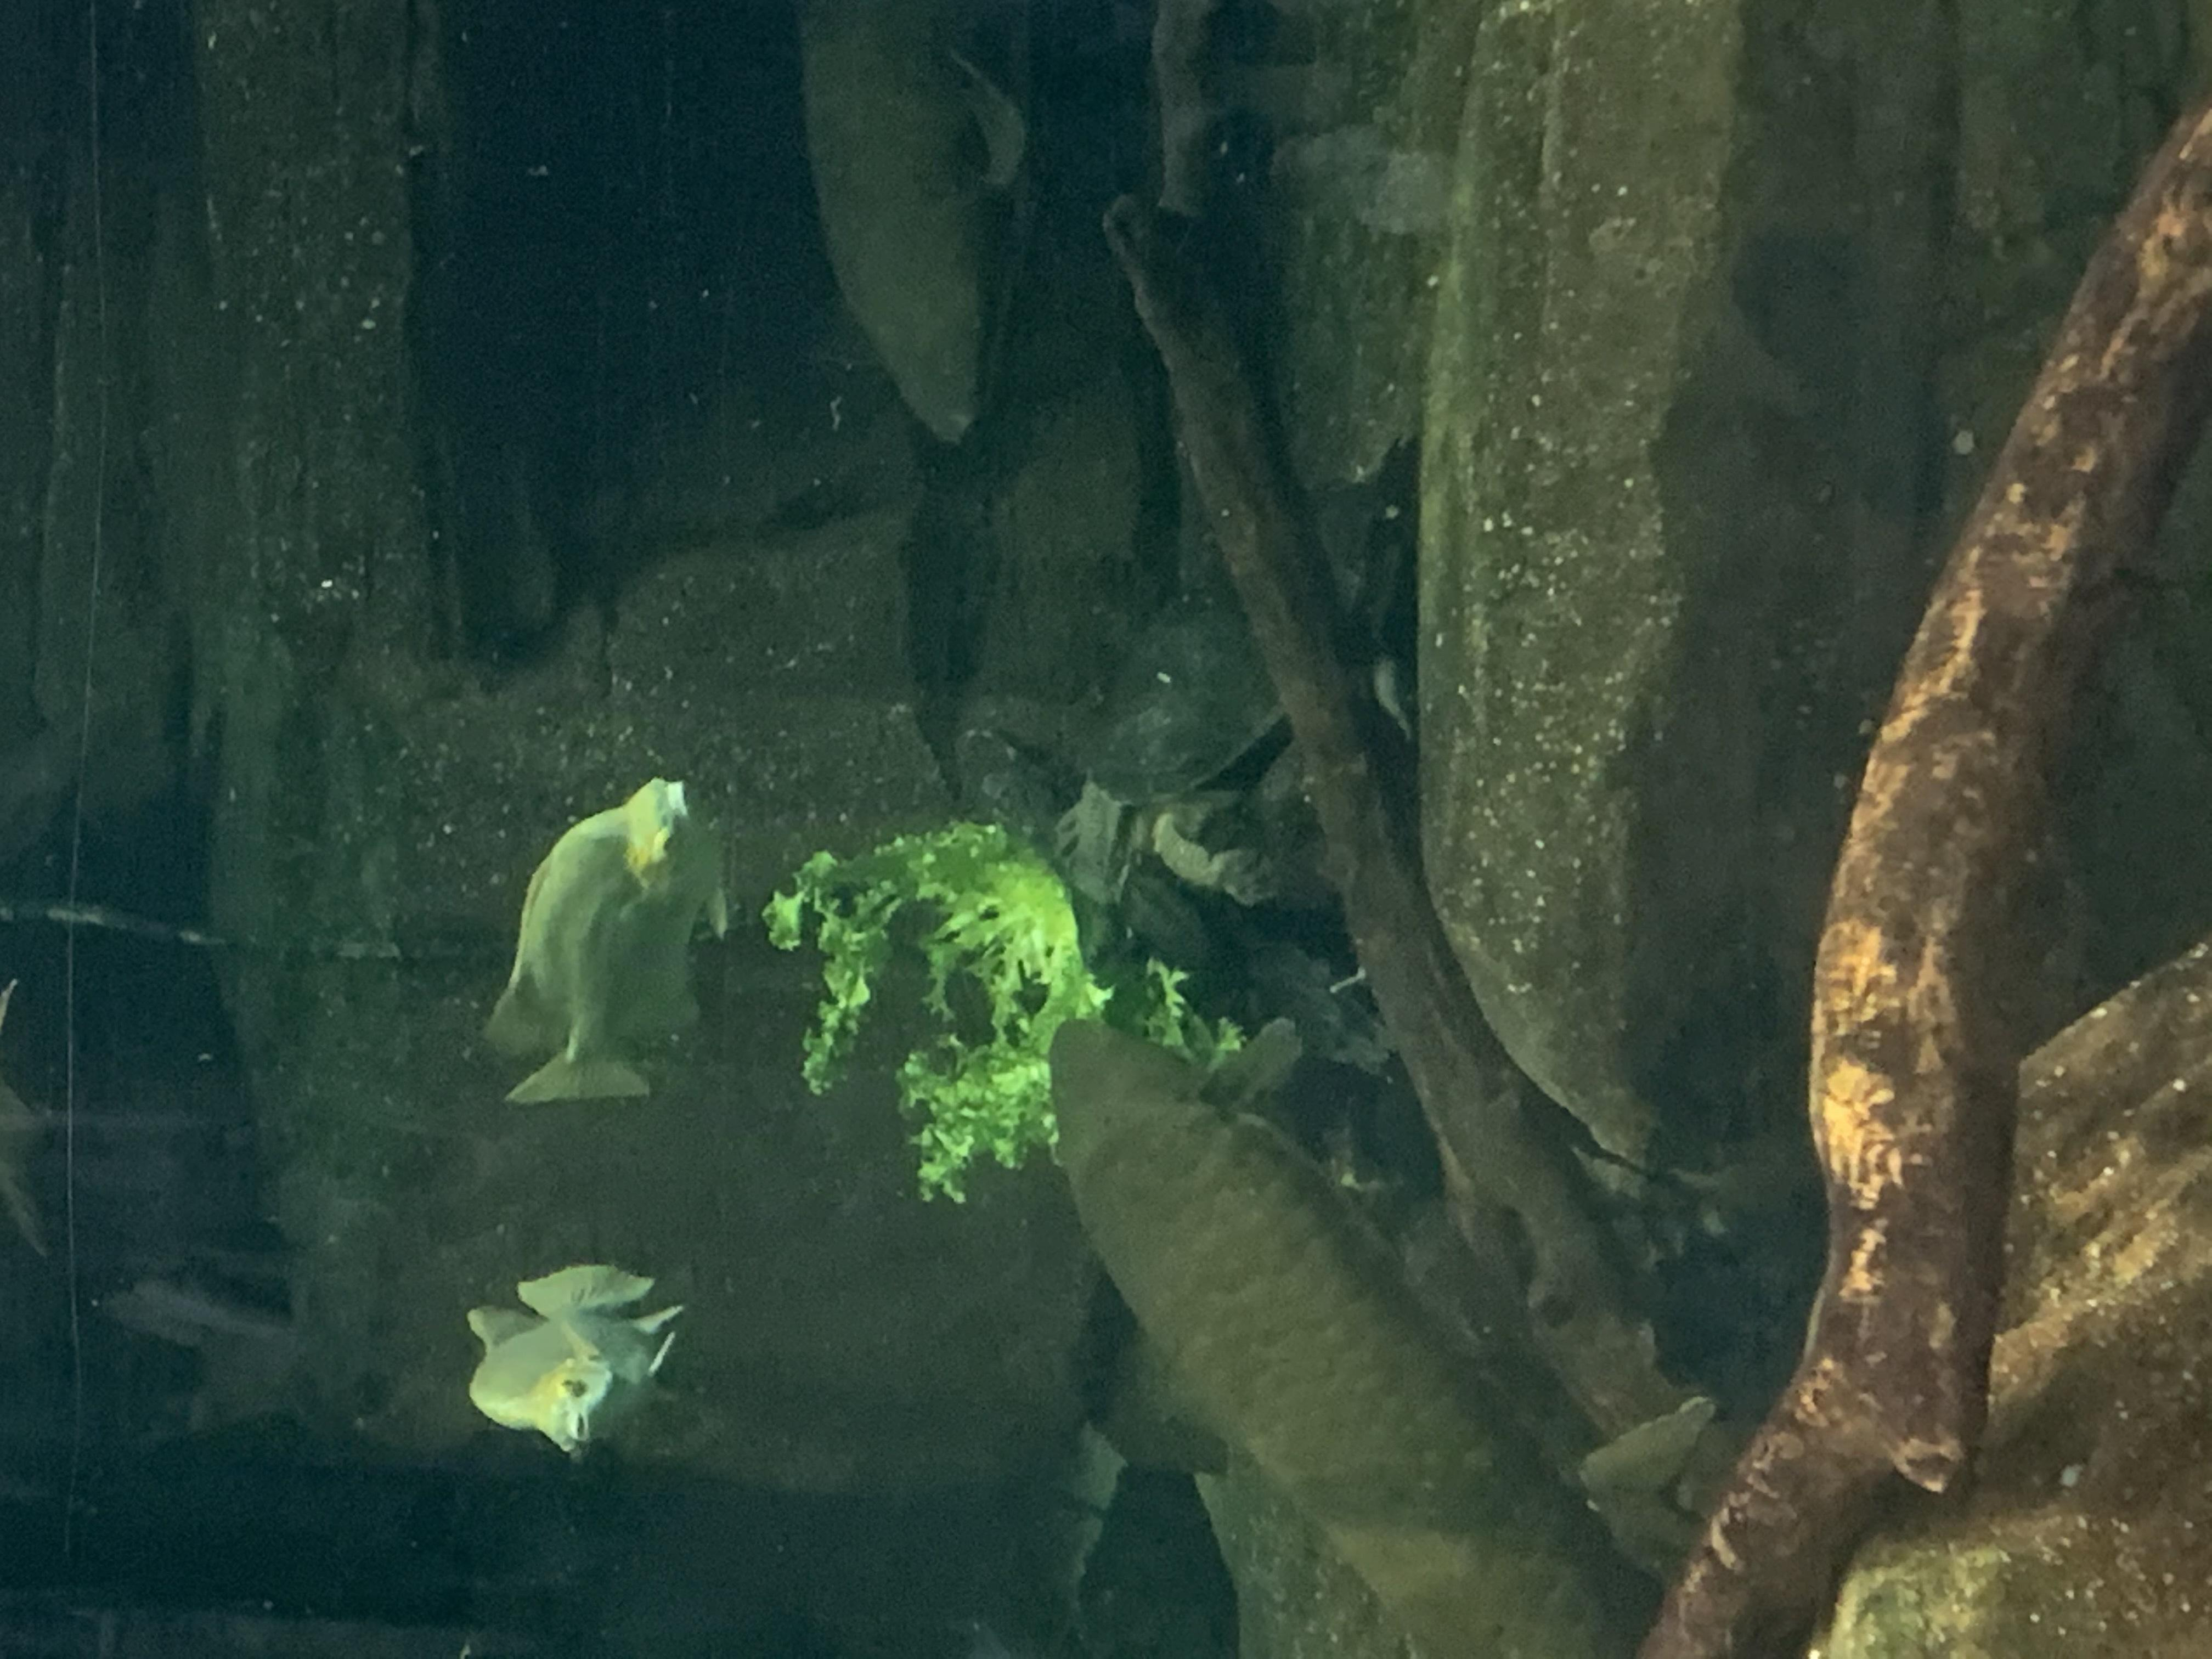fish: (478, 770, 734, 1112), (460, 1259, 695, 1468)
